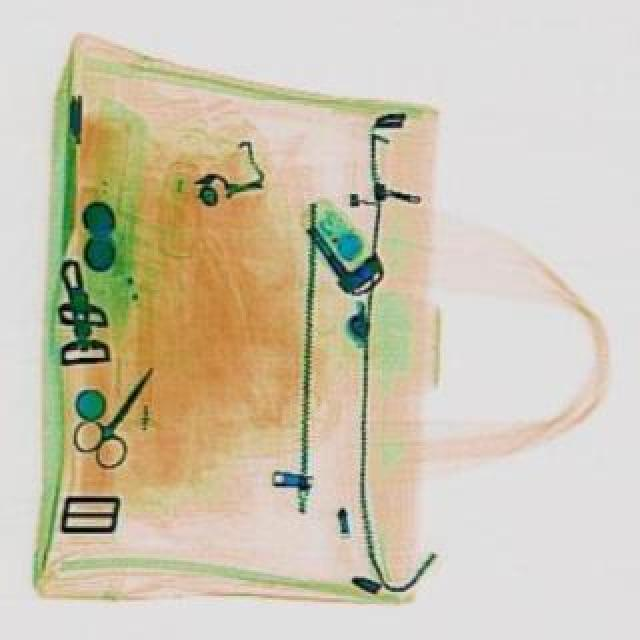pliers: (68, 350, 182, 472)
